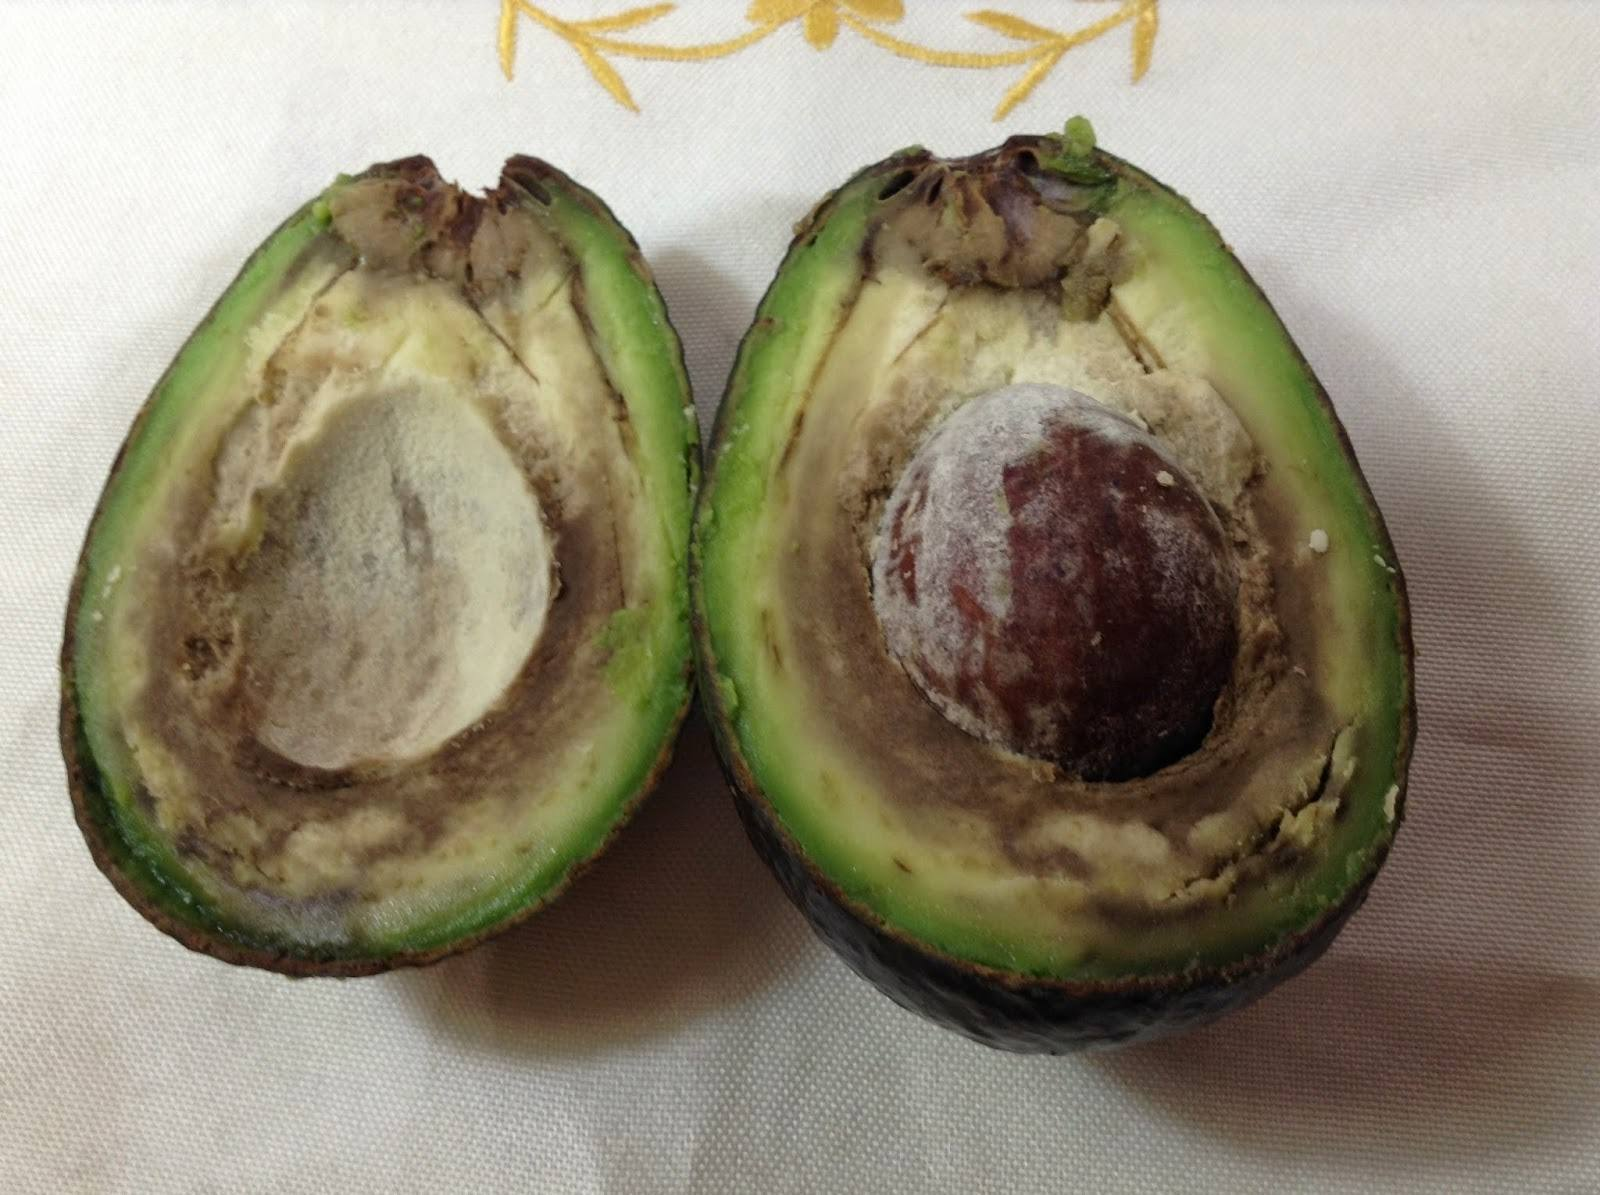damaged_avocado: (705, 144, 1407, 1021), (61, 159, 695, 967)
